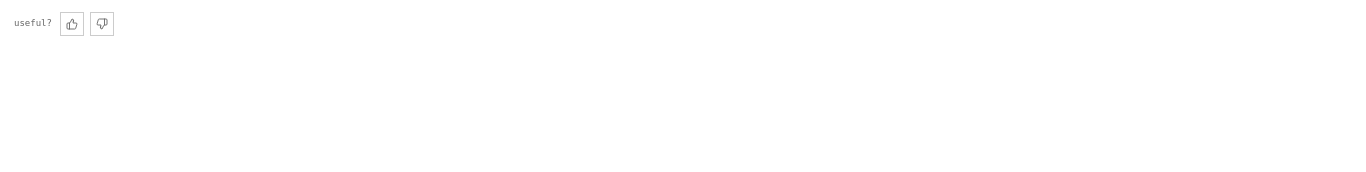
NotificationFeedback › expands a small correction input and saves down feedback on send
Click the button named "not useful notification": (102, 24) [90,12,114,36]
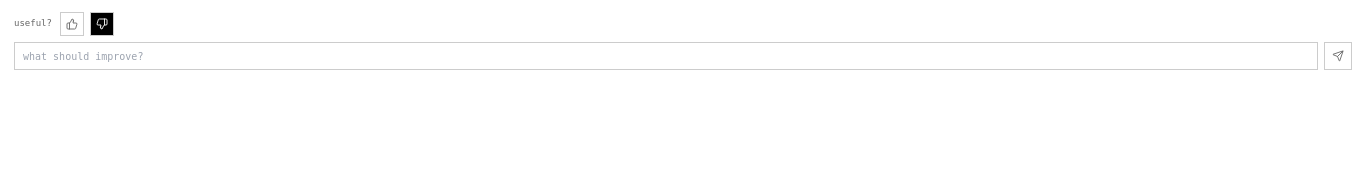
In the field labelled "what should improve": (666, 56) [14,42,1318,70], type "  include project names  "
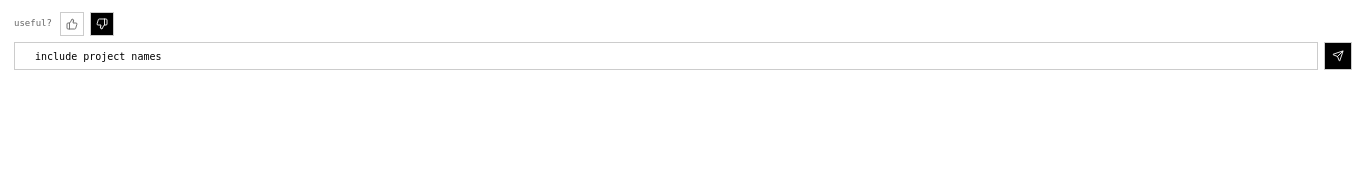
Click the button named "send feedback": (1338, 56) [1324,42,1352,70]
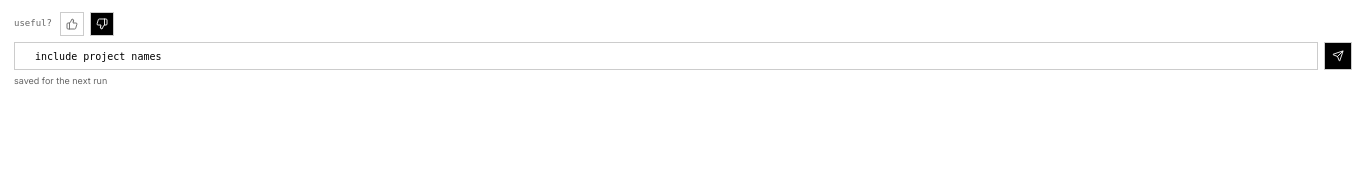
Expected: the text "saved for the next run" is shown, [14,75,107,86]
